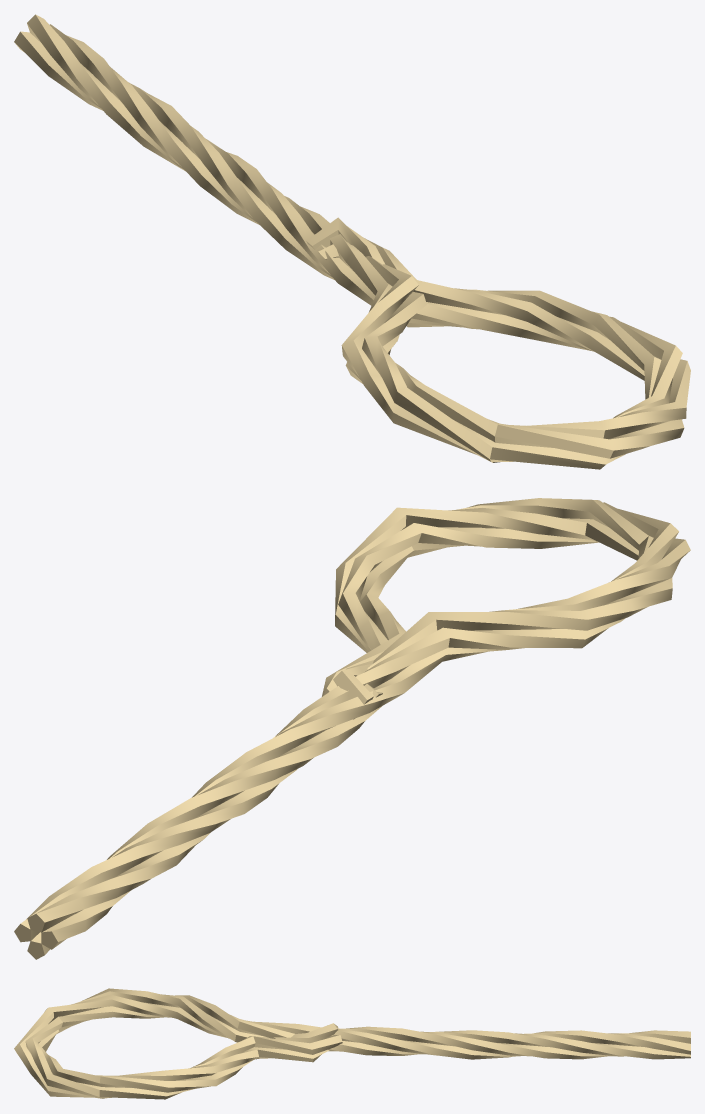
Rendered from Four_Side_Rope_Noose.fbx.
The picture shows the model from 3 angles, top to bottom: view 1: azimuth 30°, elevation 25°; view 2: azimuth 150°, elevation 25°; view 3: azimuth 270°, elevation 25°; orthographic projection. The views are drawn at different scales.
Parts seen in each view (by area): view 1: sweep11; view 2: sweep11; view 3: sweep11.
Part boxes in pixels (left/top/right/bottom): sweep11: left=14, top=14, right=690, bottom=469; sweep11: left=14, top=498, right=690, bottom=959; sweep11: left=14, top=988, right=690, bottom=1099.
Size of the model in its own units: 10.21 by 2.44 by 34.69.
1 material, 1 textured.
